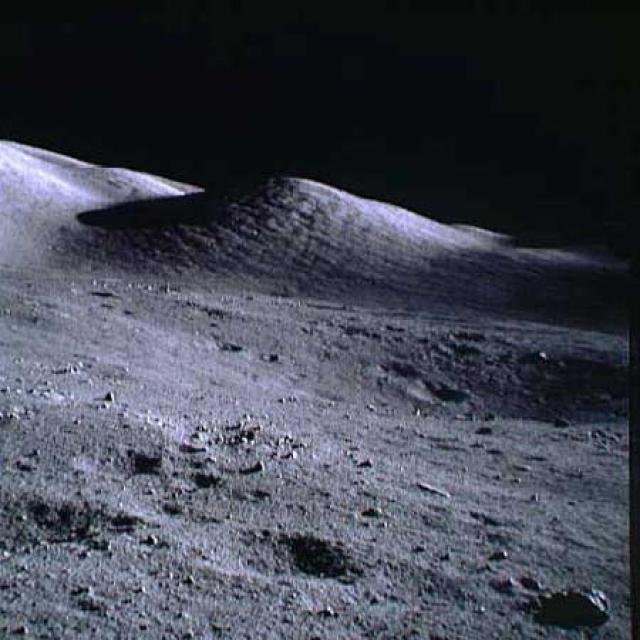crater: (326, 323, 634, 432), (222, 530, 338, 583)
rock: (554, 580, 615, 618)
